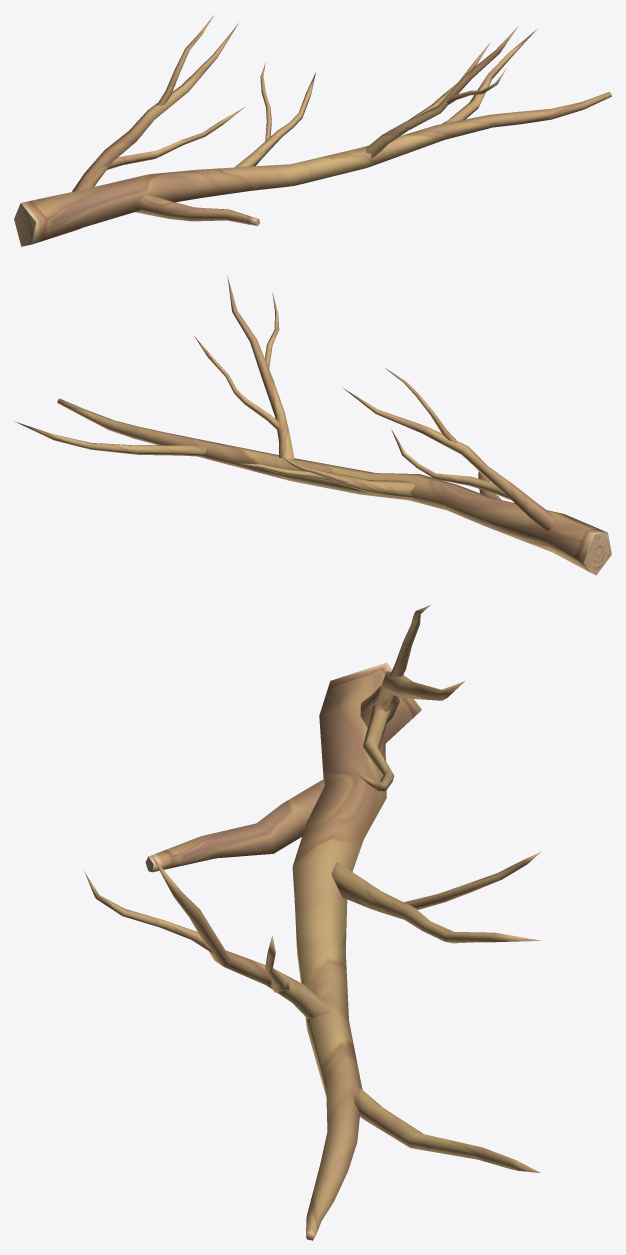
The model's file is SM_ENV_branch_ancient_01.fbx.
3 views of the same model, one above another, from view 1: azimuth 30°, elevation 25°; view 2: azimuth 150°, elevation 25°; view 3: azimuth 270°, elevation 25° (orthographic). The views are drawn at different scales.
Parts seen in each view (by area): view 1: SM_ENV_branch_ancient_01_LOD0; view 2: SM_ENV_branch_ancient_01_LOD0; view 3: SM_ENV_branch_ancient_01_LOD0.
Part boxes in pixels (bbox=[...]): SM_ENV_branch_ancient_01_LOD0: bbox=[14, 15, 611, 246]; SM_ENV_branch_ancient_01_LOD0: bbox=[15, 276, 611, 575]; SM_ENV_branch_ancient_01_LOD0: bbox=[84, 604, 541, 1240].
Size of what is drawn, in the model's own units: 255 by 73.58 by 90.61.
